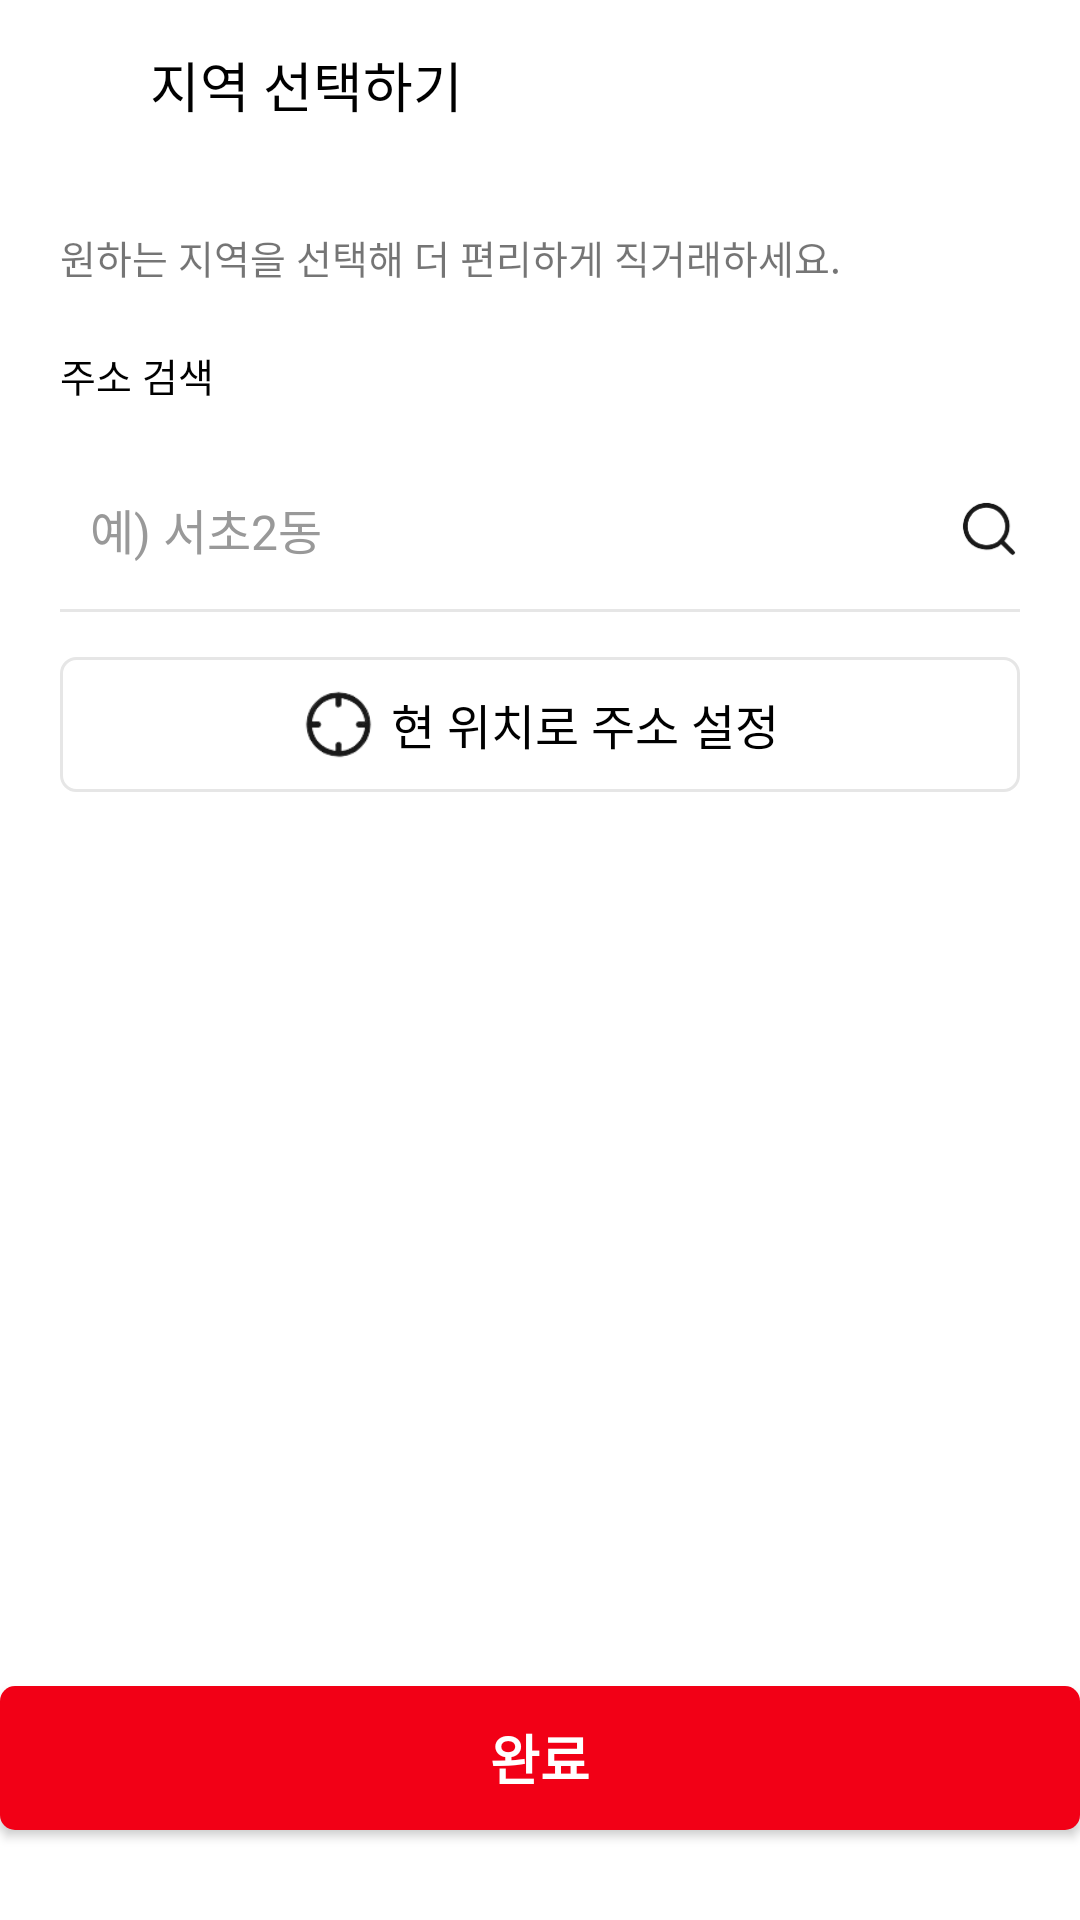

Icon bounding boxes for this 1080 × 1920 phone screenshot, format [x1, y1, x2, y2]:
area search: [963, 503, 1015, 555]
